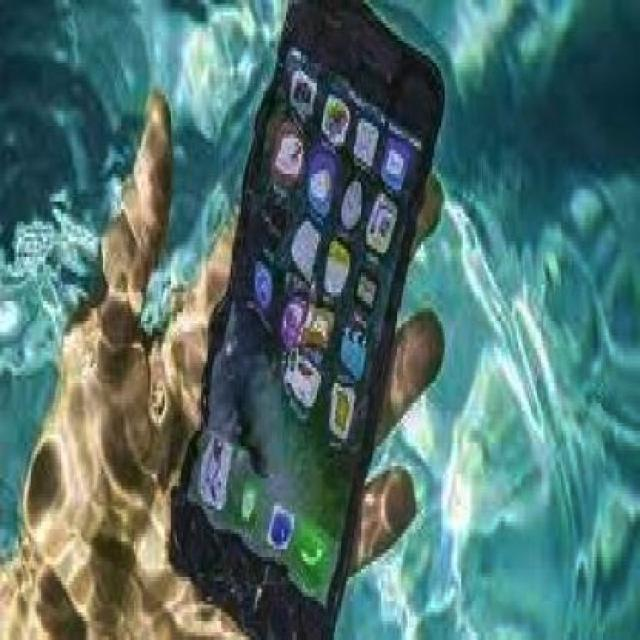cellphone: (175, 3, 438, 640)
